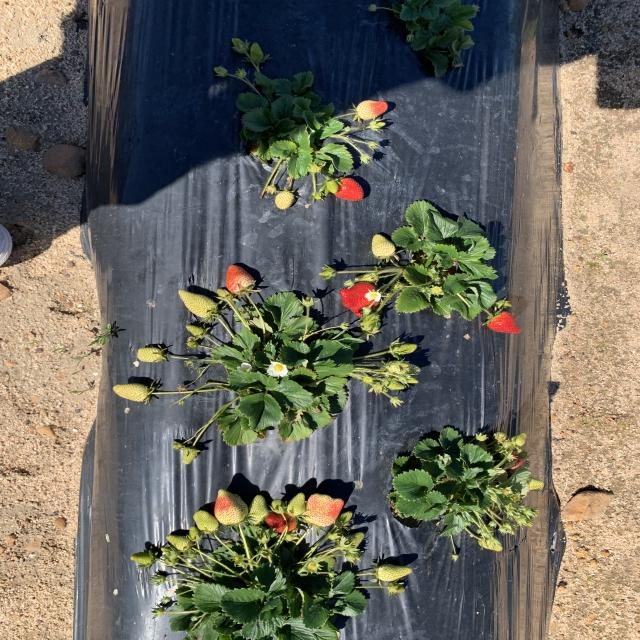unripe: (338, 282, 385, 318), (332, 178, 367, 202), (488, 311, 522, 335), (264, 509, 298, 533), (224, 264, 252, 292)
